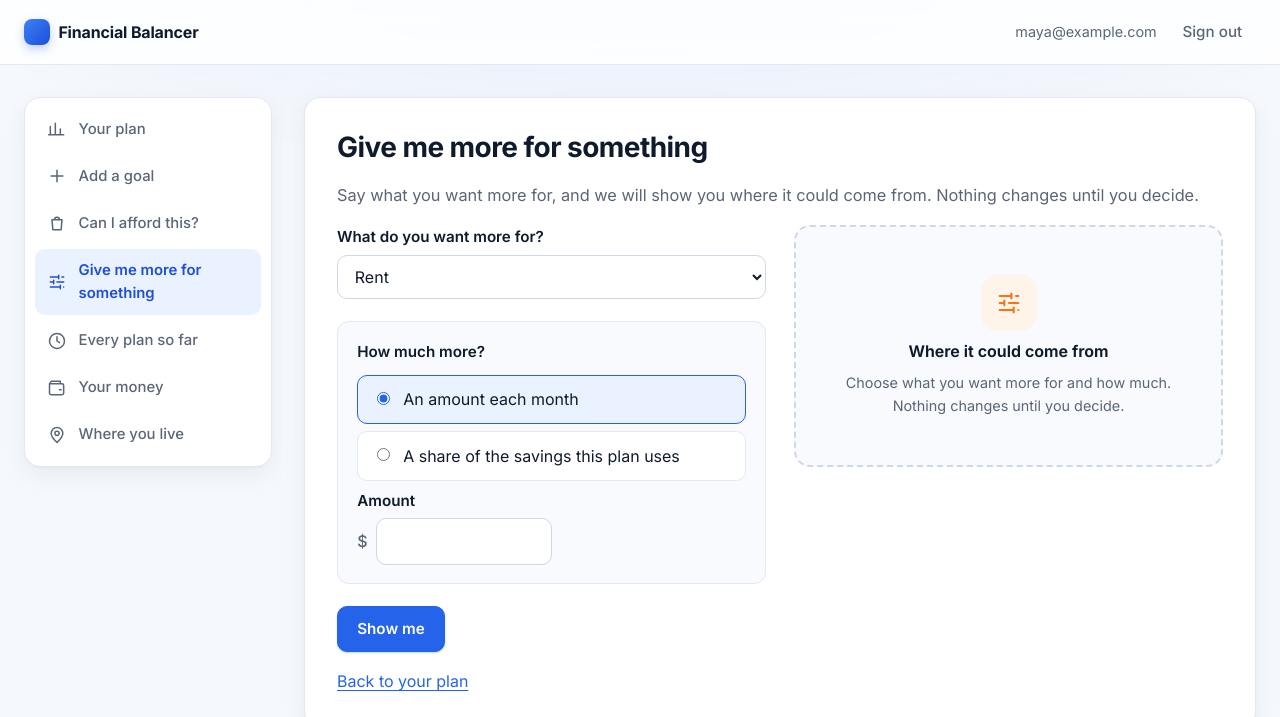
Scenario: give me more for something › shows where the money would come from, and says that nothing has changed
Select "Eating out" in the dropdown labelled "What do you want more for?": (552, 277) x1=337 y1=255 x2=766 y2=299
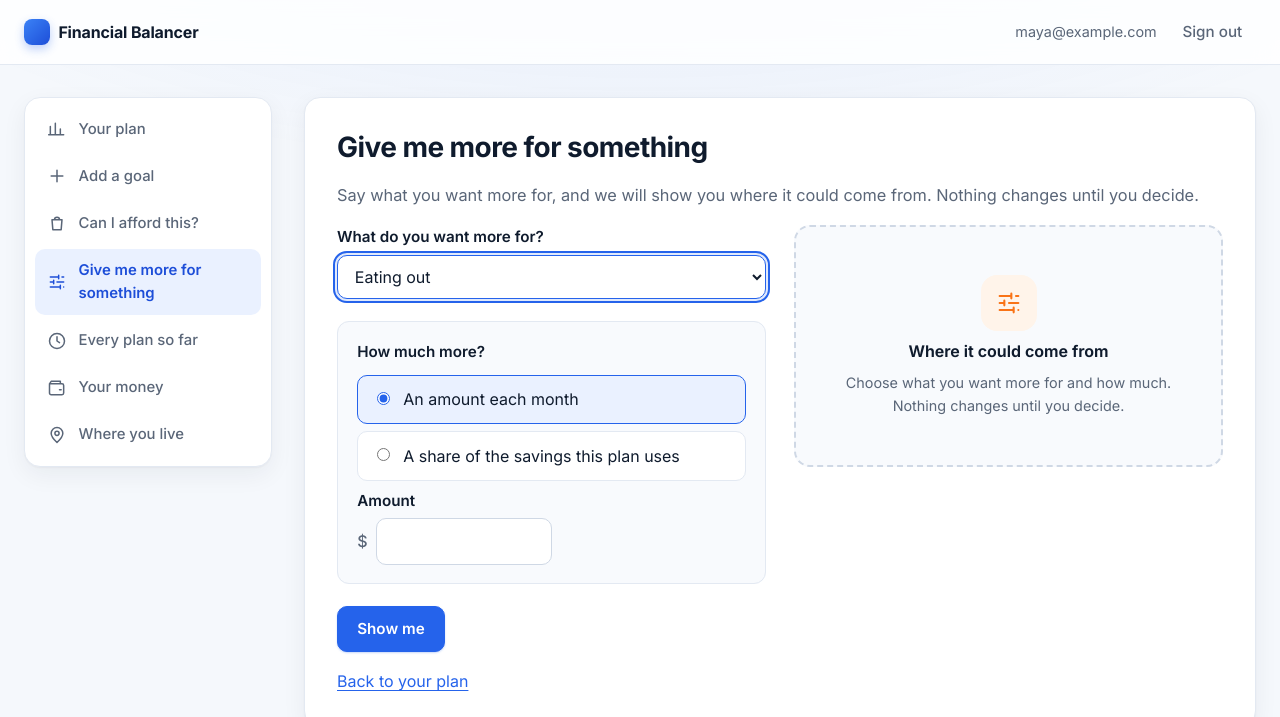
In the field labelled "Amount": (464, 542) x1=376 y1=518 x2=552 y2=565, type "50"
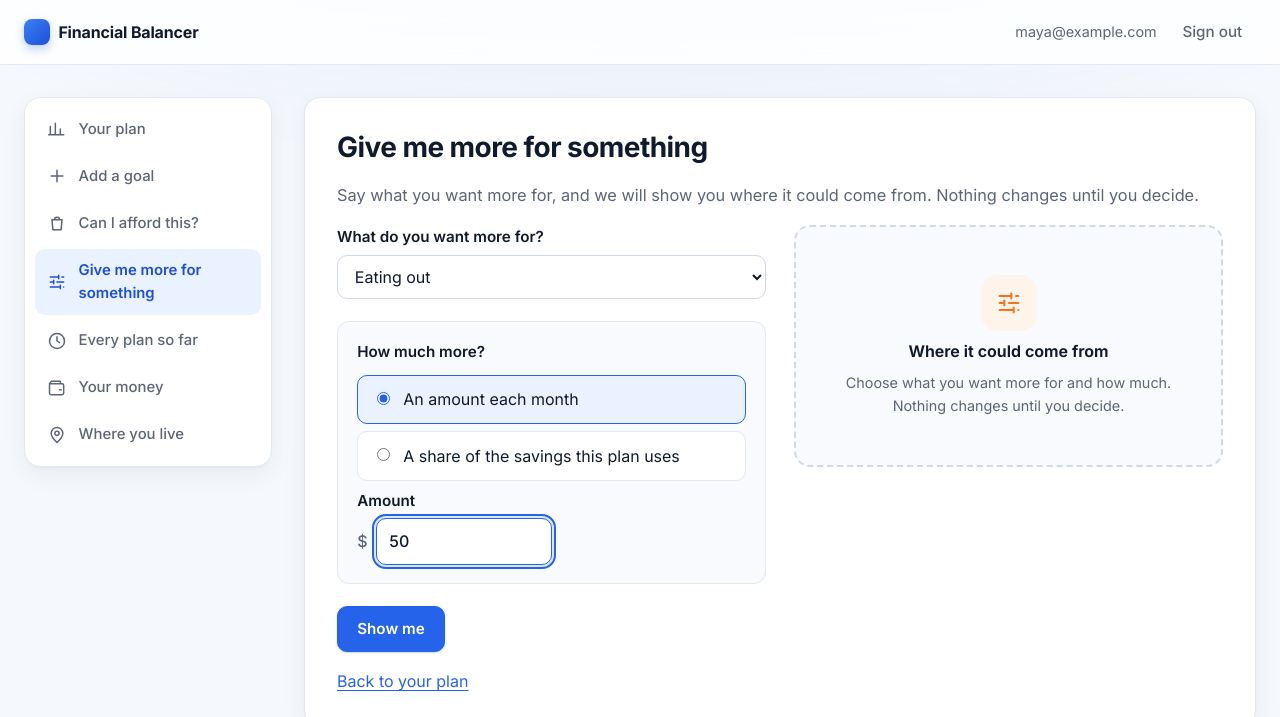
Click the button "Show me": (391, 629) x1=337 y1=606 x2=445 y2=652
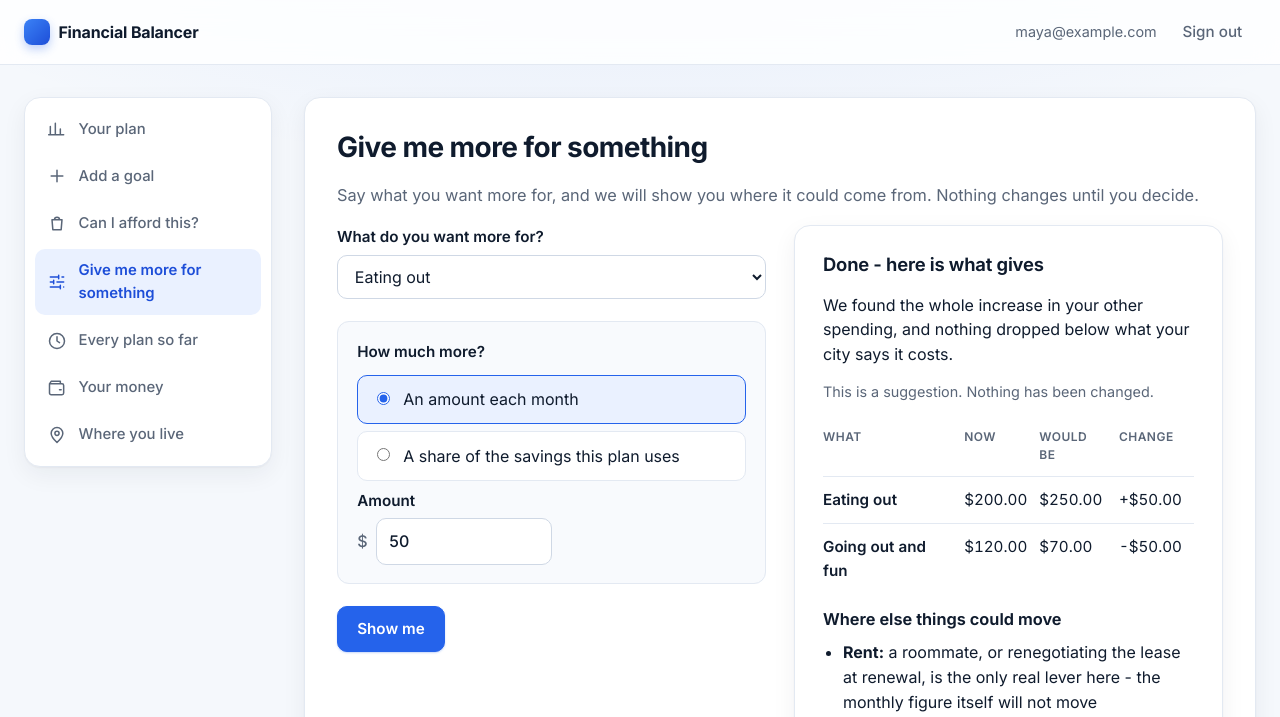
Check: the heading "Done - here is what gives" is shown, box x1=823 y1=253 x2=1044 y2=275
Check: the text "This is a suggestion. Nothing has been changed." is shown, box x1=823 y1=380 x2=1194 y2=403
